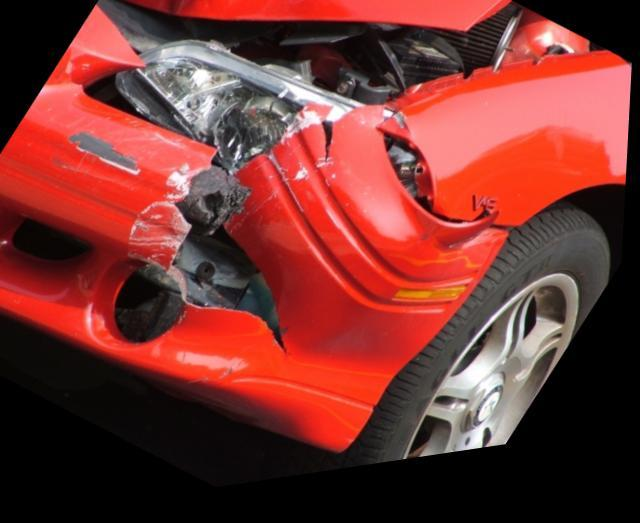crack: (172, 232, 293, 369), (321, 133, 335, 176)
dent: (113, 0, 441, 27)
dislocated part: (21, 97, 516, 460), (96, 0, 629, 117)
scratch: (131, 165, 203, 277), (66, 128, 149, 188)
